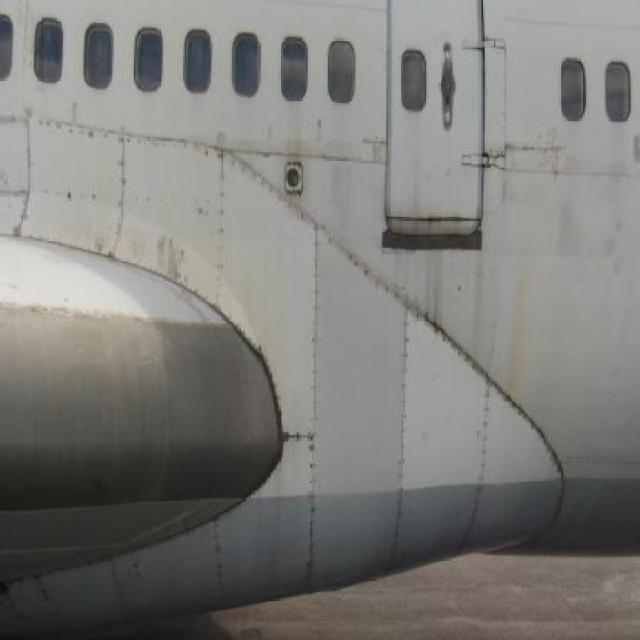Missing-Rivet: (12, 105, 130, 264), (119, 122, 286, 195), (382, 270, 418, 585), (294, 199, 321, 603), (512, 402, 573, 562), (316, 226, 387, 302), (469, 349, 493, 557), (411, 298, 475, 376), (208, 198, 228, 318)
Rust: (501, 239, 534, 415)
Scartch: (480, 127, 568, 185), (144, 221, 193, 296), (338, 135, 391, 176)
